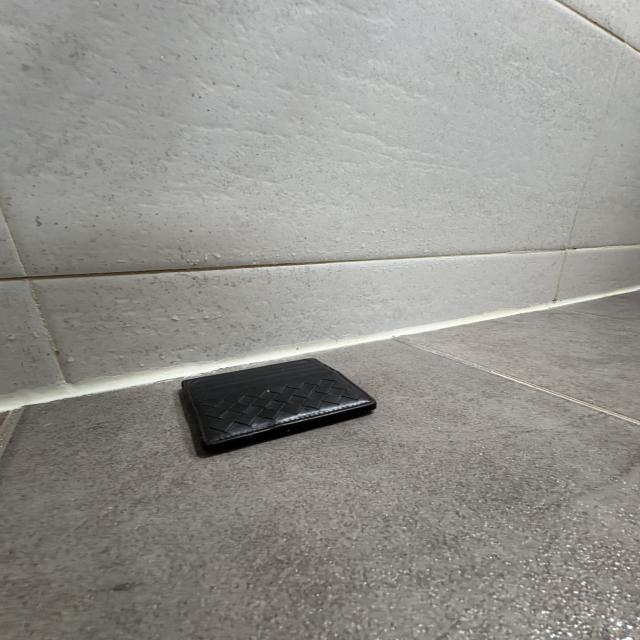wallet: (180, 357, 377, 459)
